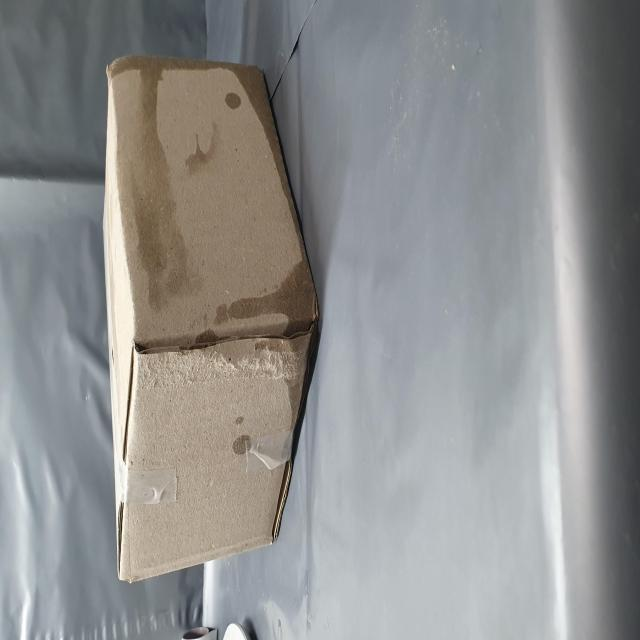wet: (120, 452, 223, 580)
